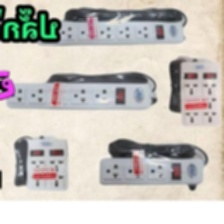three_eye_plug: (32, 13, 189, 48), (3, 77, 158, 111), (96, 151, 208, 189), (178, 58, 223, 130), (22, 133, 73, 193)
